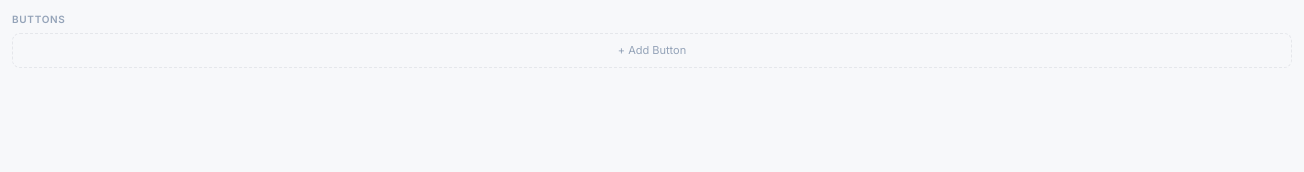
Test: FieldRenderer › renders a buttons-list field and adds a button
Click the button "+ Add Button".
click(652, 50)  # box x1=12 y1=33 x2=1292 y2=68
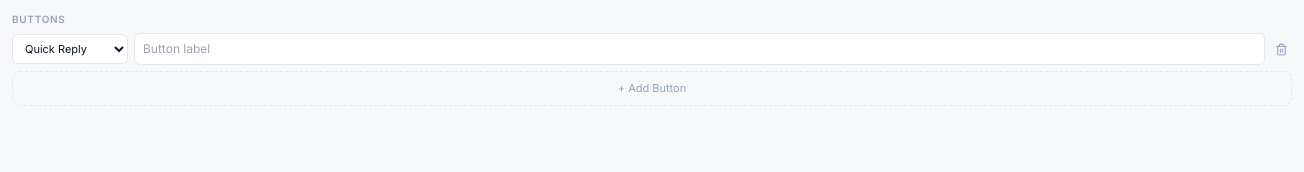
Result: the field with placeholder "Button label" is shown at x1=134 y1=33 x2=1265 y2=65
